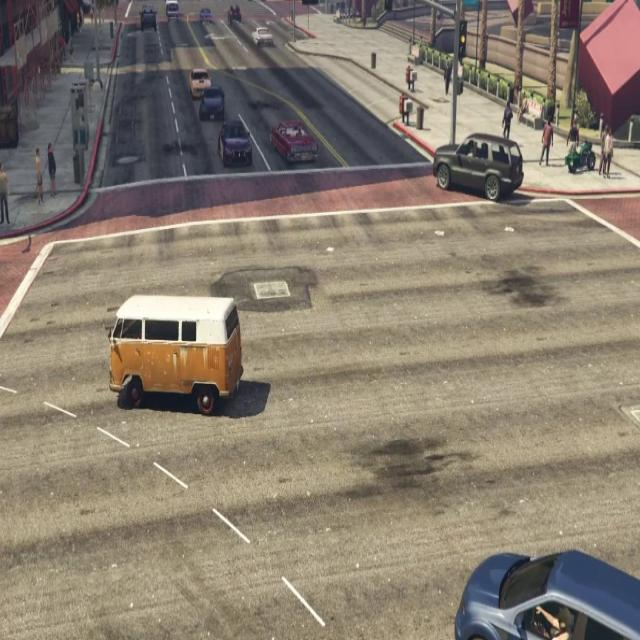Yellow-Signal: (450, 10, 477, 85), (298, 0, 322, 15), (383, 0, 398, 24)
